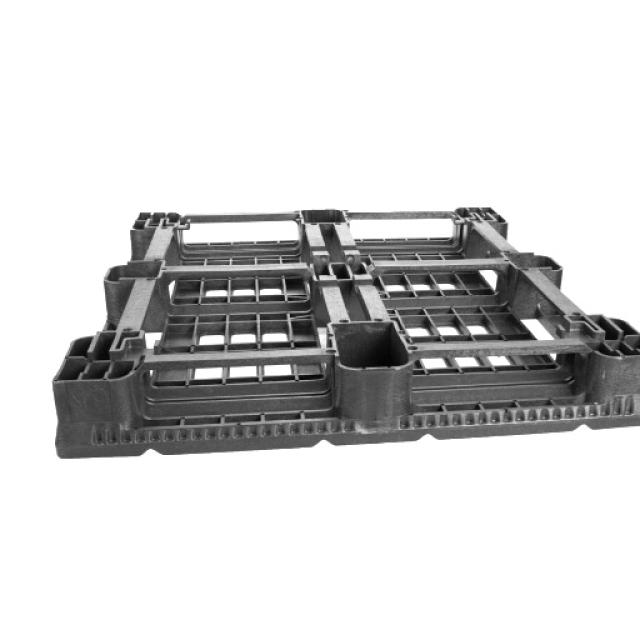non-igps: (42, 200, 640, 465)
